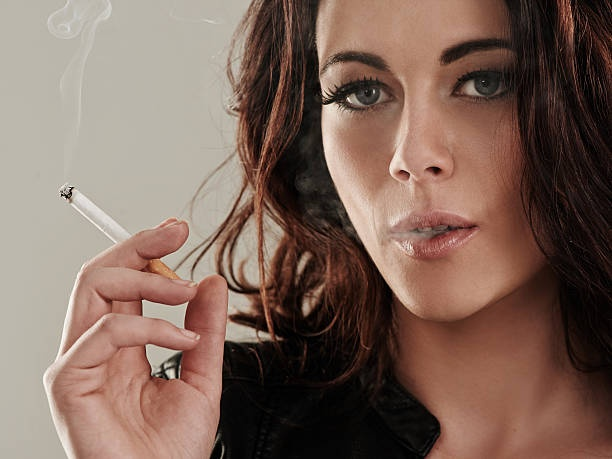sigaretta: (63, 179, 189, 297)
